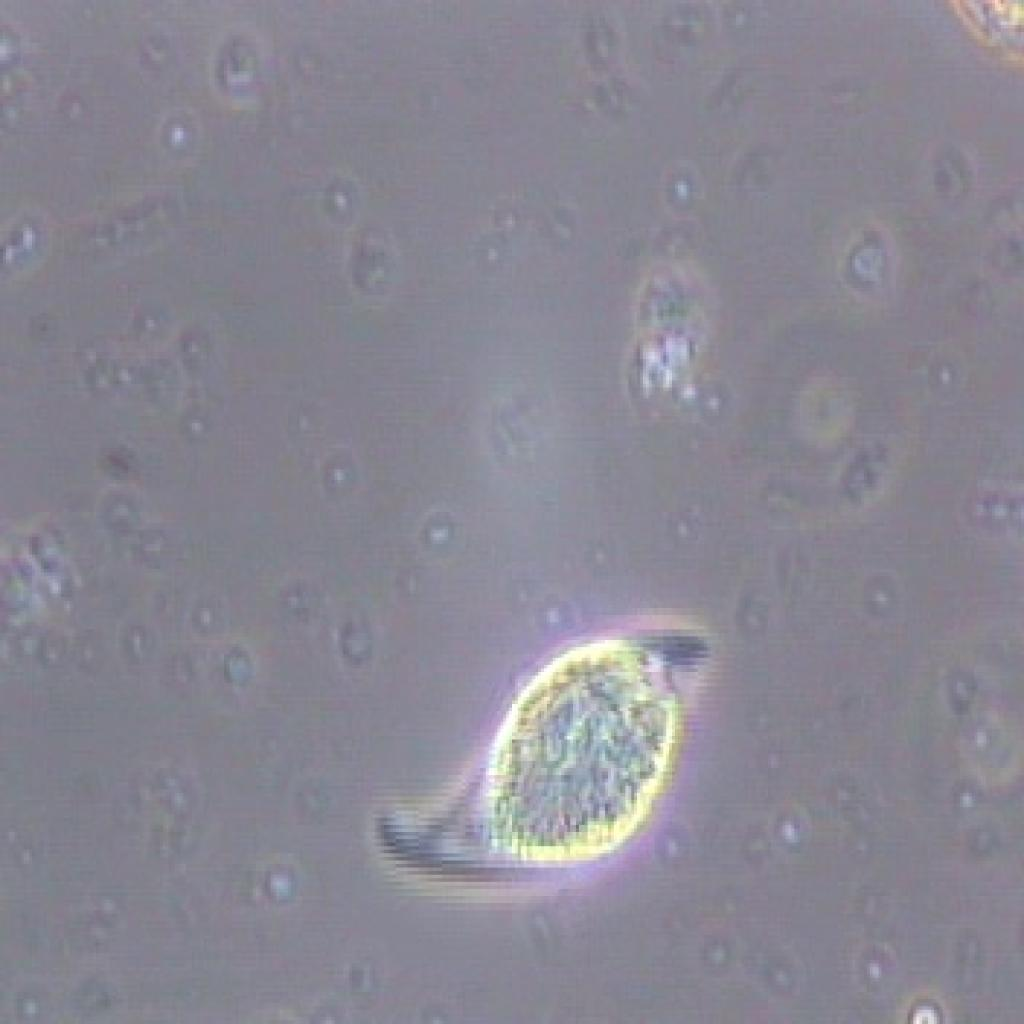Pristina: (342, 598, 720, 918)
